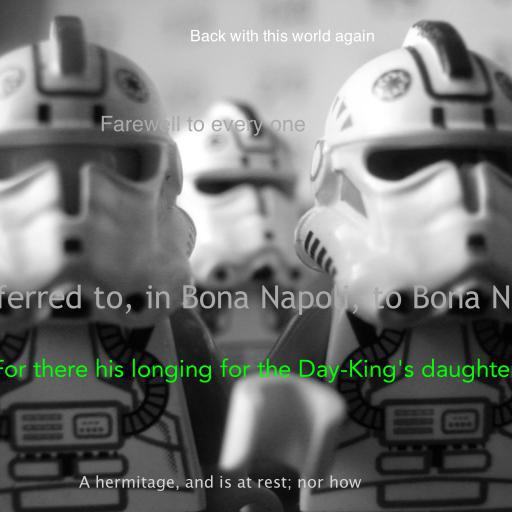Avenir: (0, 358, 512, 383)
Big Caslon: (100, 115, 306, 136), (189, 29, 375, 45)
Lucida Grande: (79, 475, 361, 491)
Trebuchet MS: (0, 284, 512, 315)
